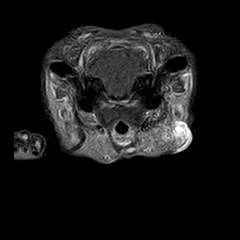Brain: (68, 20, 167, 118)
